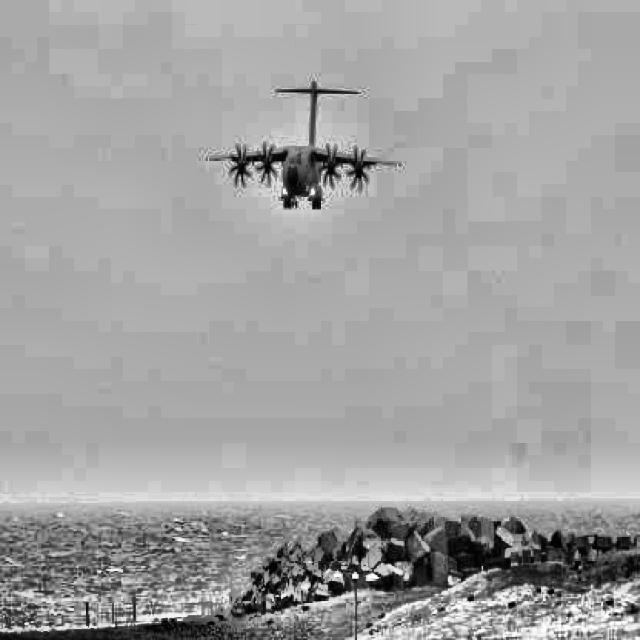A400M: (206, 79, 402, 210)
